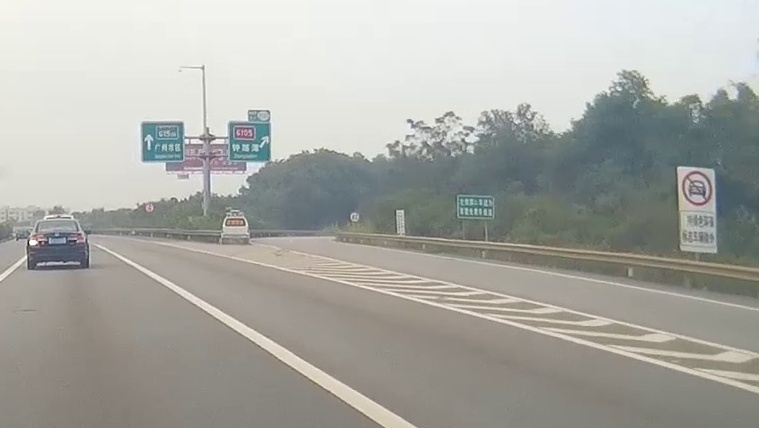L_light: (29, 236, 47, 246)
R_light: (68, 234, 86, 243)
T_light: (53, 222, 62, 224)
day-left: (26, 219, 89, 270)
